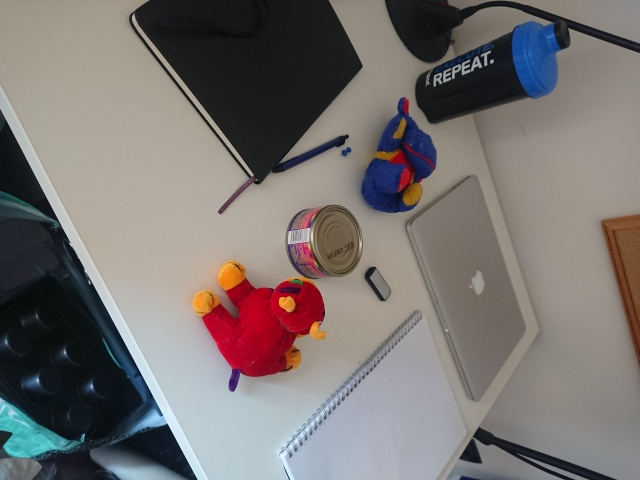Giana Tuna Salad Mexico 185g: (284, 203, 366, 282)
